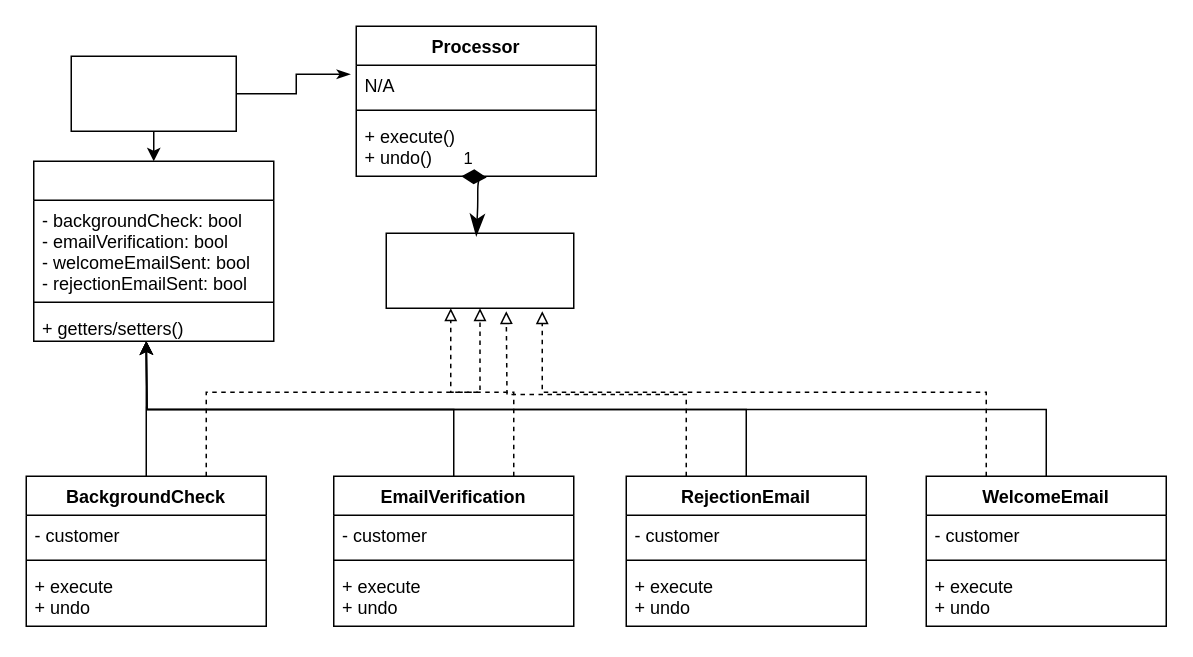
This 1193x657 diagram has some shape labels left out. Each missing label, with the box of its shape:
Customer: (32, 160, 274, 341)
Test: (70, 55, 236, 131)
«interface» CustomerProcessing: (385, 232, 574, 308)
